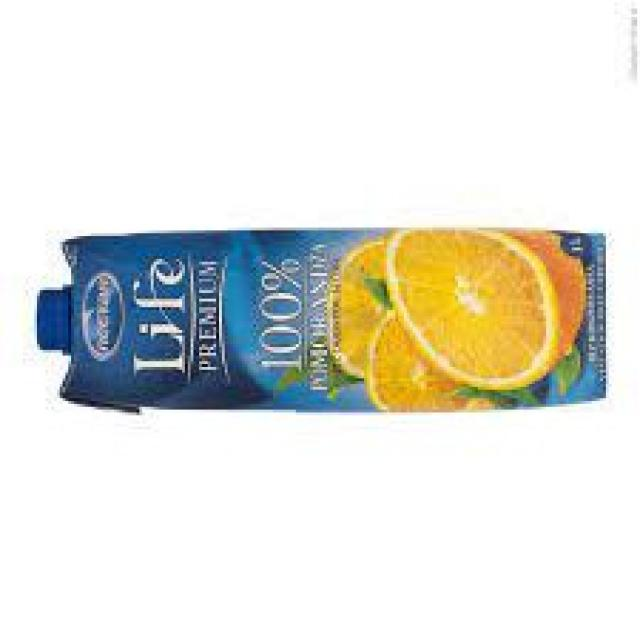non_white_jug: (33, 218, 610, 416)
